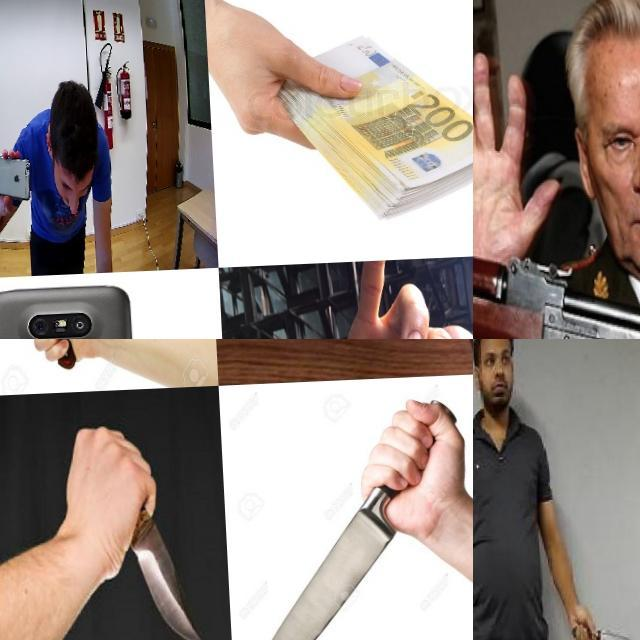-: (233, 430, 436, 640), (207, 339, 473, 437), (88, 421, 200, 640), (0, 339, 68, 470), (577, 604, 633, 640)
gun-knife-thesis - v11 Yolov5 augmented: (473, 208, 640, 339)
